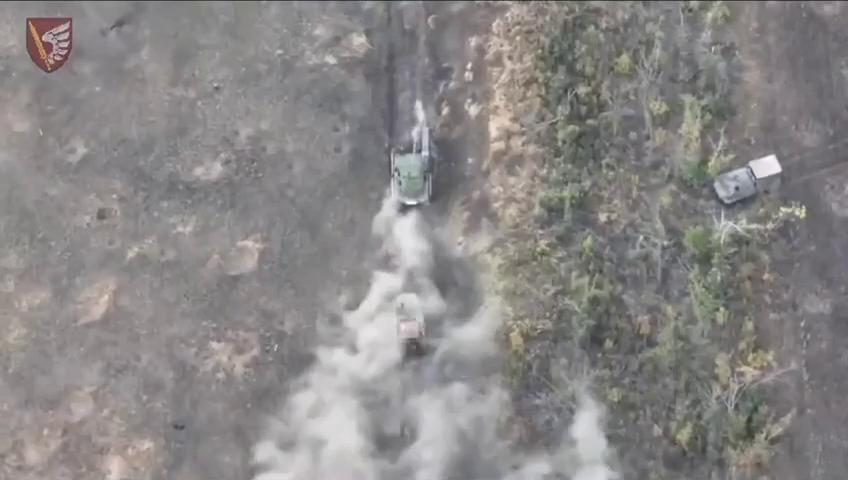tank: (711, 154, 785, 206), (387, 143, 436, 215), (393, 302, 431, 365)
